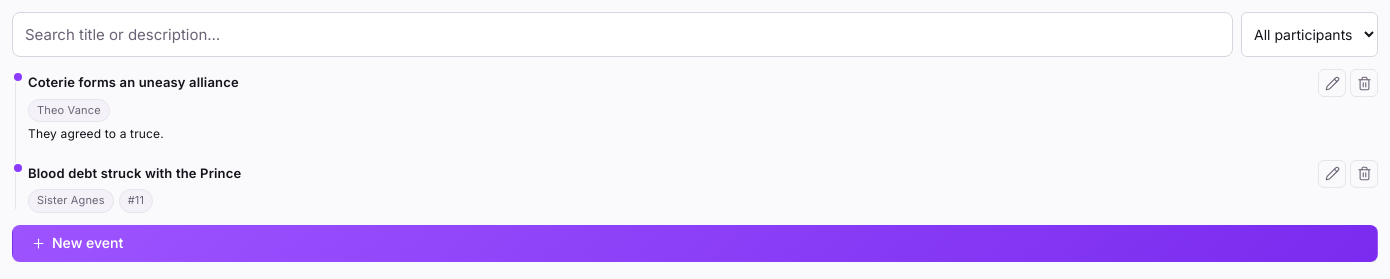
Test: TimelineWindow › filters events by search text
In the search field named "Search events": (622, 35) x1=12 y1=12 x2=1233 y2=57, type "blood debt"
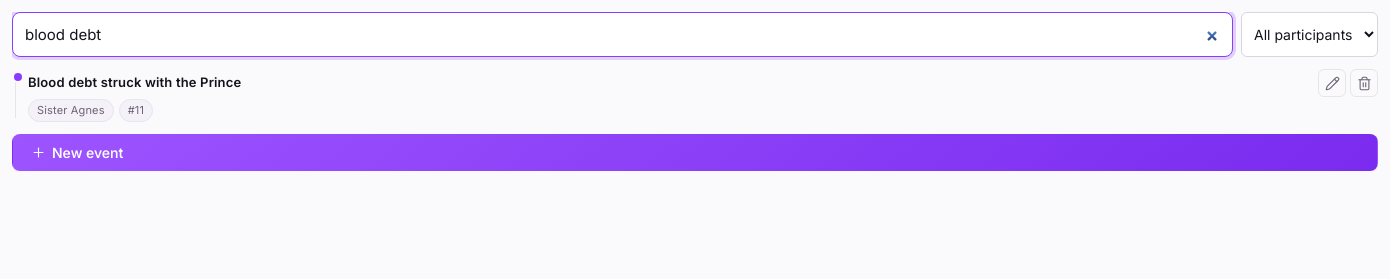
Expected: the text "Blood debt struck with the Prince" is shown, x1=28 y1=74 x2=241 y2=90
Expected: the text "Coterie forms an uneasy alliance" is gone
